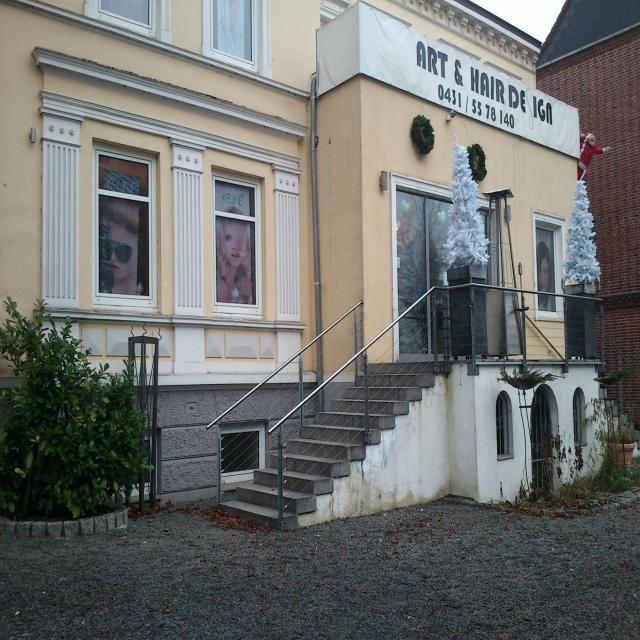AVOID: (216, 358, 444, 529)
